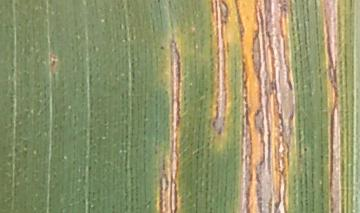tarspot: (301, 146, 310, 154), (159, 44, 165, 52)
